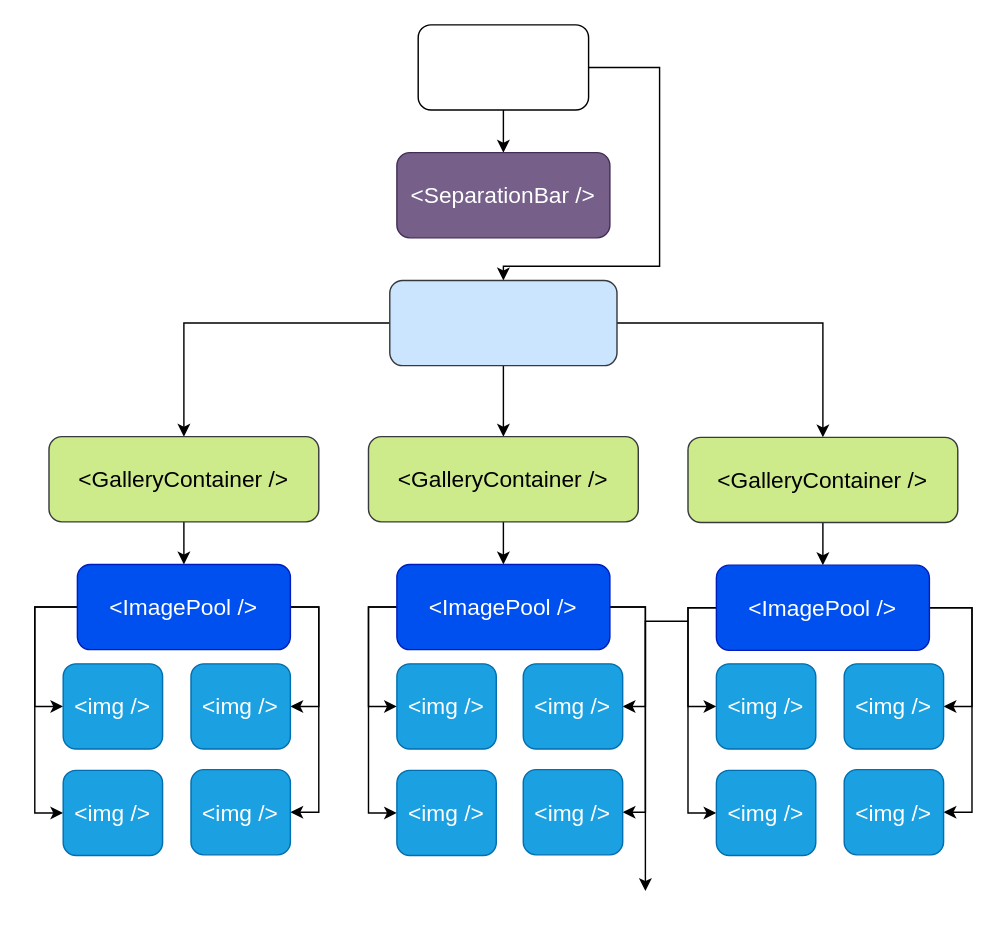
This 1008x927 diagram has some shape labels left out. The shapes that lost their labels are listed below. From the top down, each one's box as (x1, y1, x2, y2) in pixels, then its label:
(417, 23, 589, 110): gallery.js
(388, 279, 617, 366): <GalleryContent />
